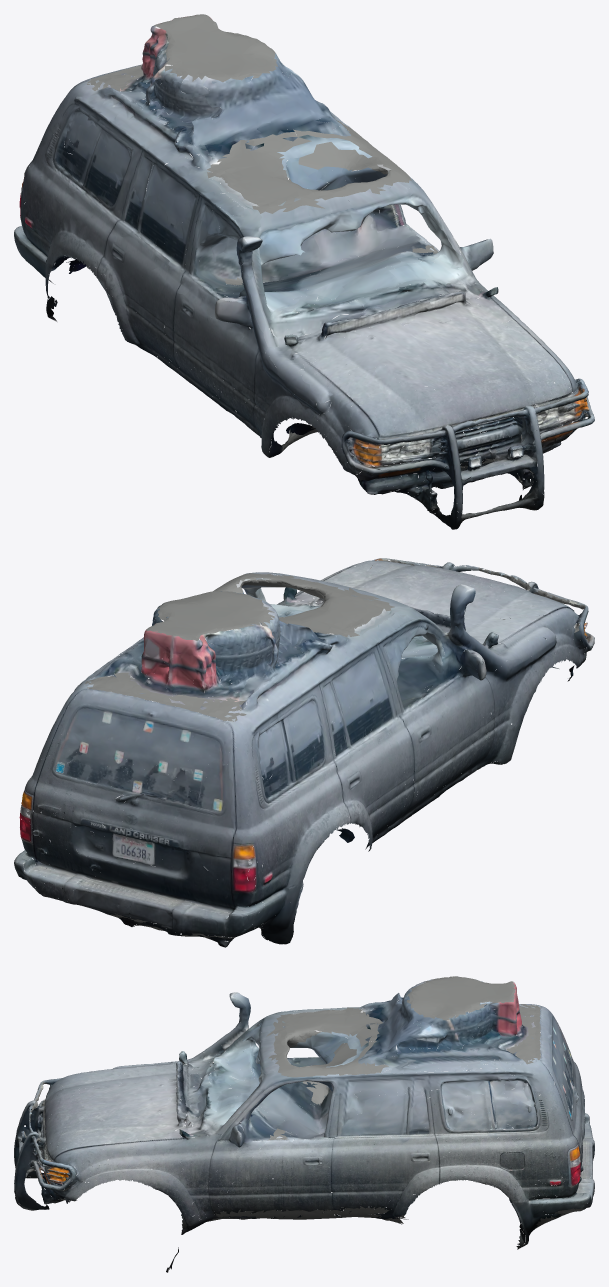
File: cruiser.glb
3 views of the same model, one above another, from view 1: azimuth 30°, elevation 25°; view 2: azimuth 150°, elevation 25°; view 3: azimuth 270°, elevation 25° (orthographic). The views are drawn at different scales.
Parts seen in each view (by area): view 1: scan_1, scan_0, scan_2; view 2: scan_0, scan_1, scan_2; view 3: scan_0, scan_1, scan_2.
Part boxes in pixels (x1,y1,x2,y2): scan_1: (14,14,594,529); scan_0: (14,31,594,529); scan_2: (18,44,590,522); scan_0: (17,560,578,947); scan_1: (14,558,594,946); scan_2: (16,559,594,946); scan_0: (14,1002,594,1225); scan_1: (14,976,594,1272); scan_2: (14,977,594,1269).
Bounding box in the file's own units: 2.05 × 2.23 × 4.92.
Materials: 4 (4 with a texture image).
